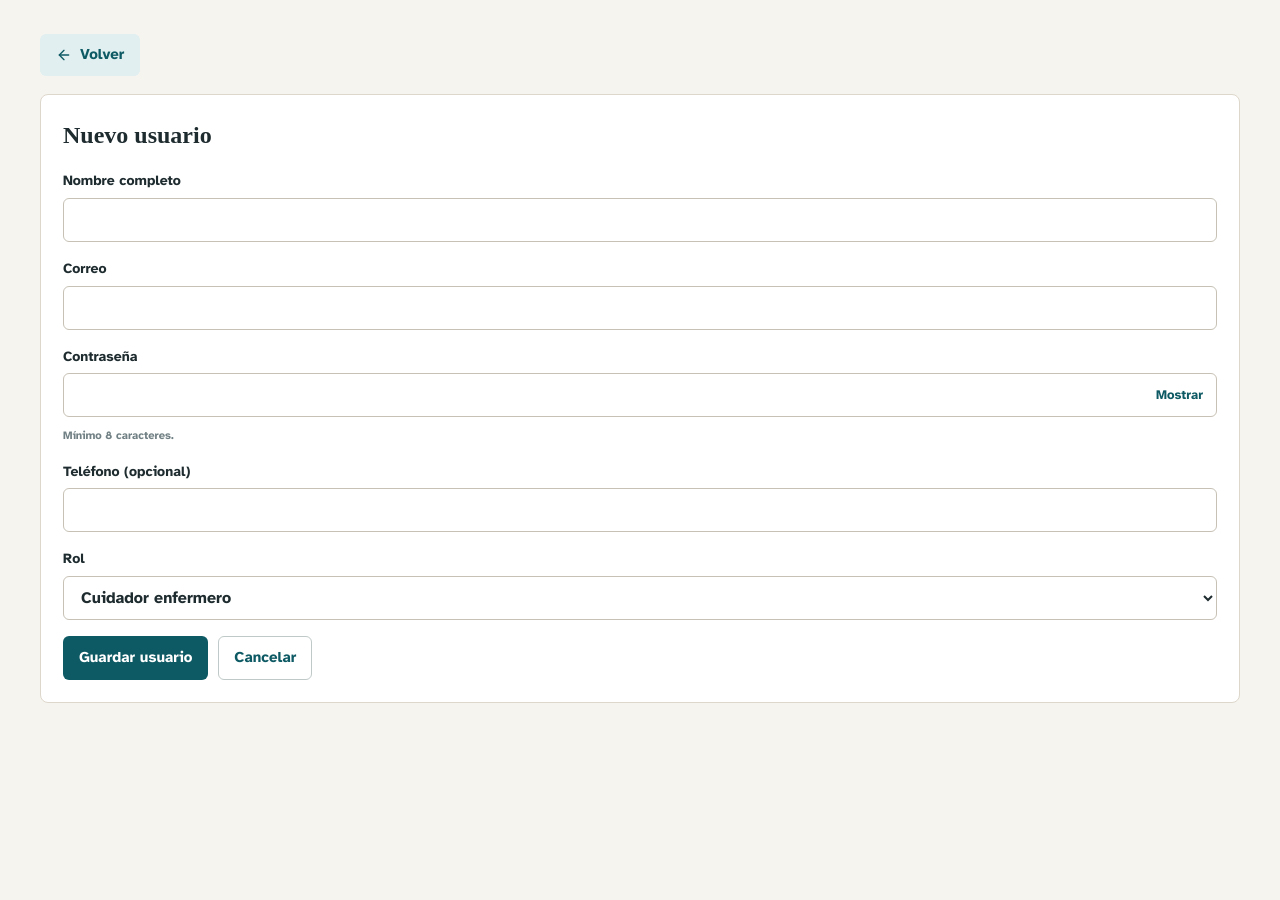
Scenario: FormularioUsuario › rechaza una contrasena menor a 8 caracteres
The width and height of the screenshot is (1280, 900).
In the field labelled "Nombre completo": [640, 220] box x1=63 y1=198 x2=1217 y2=242, type "Ana Gomez"
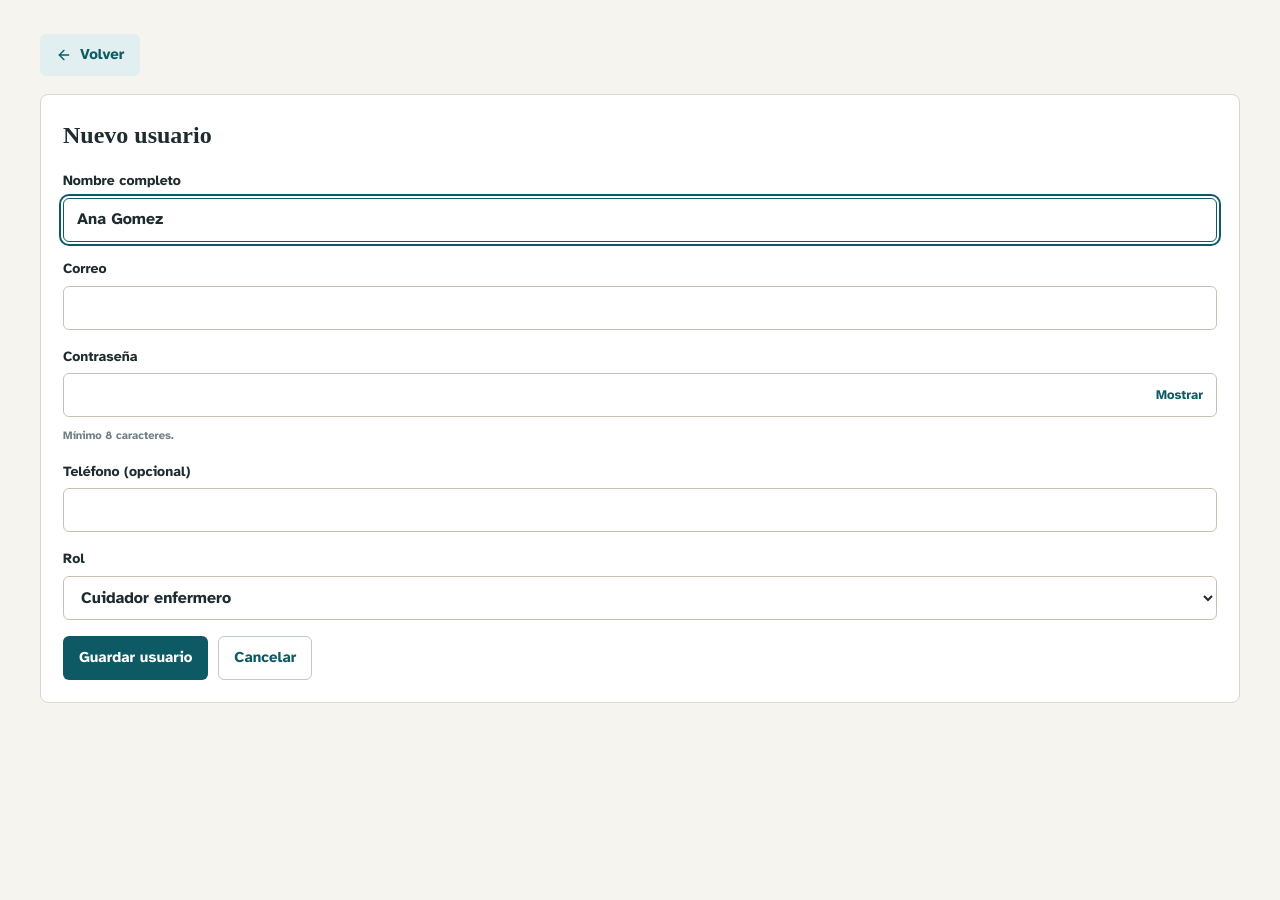
In the field labelled "Correo": [640, 308] box x1=63 y1=286 x2=1217 y2=330, type "ana@ejemplo.com"
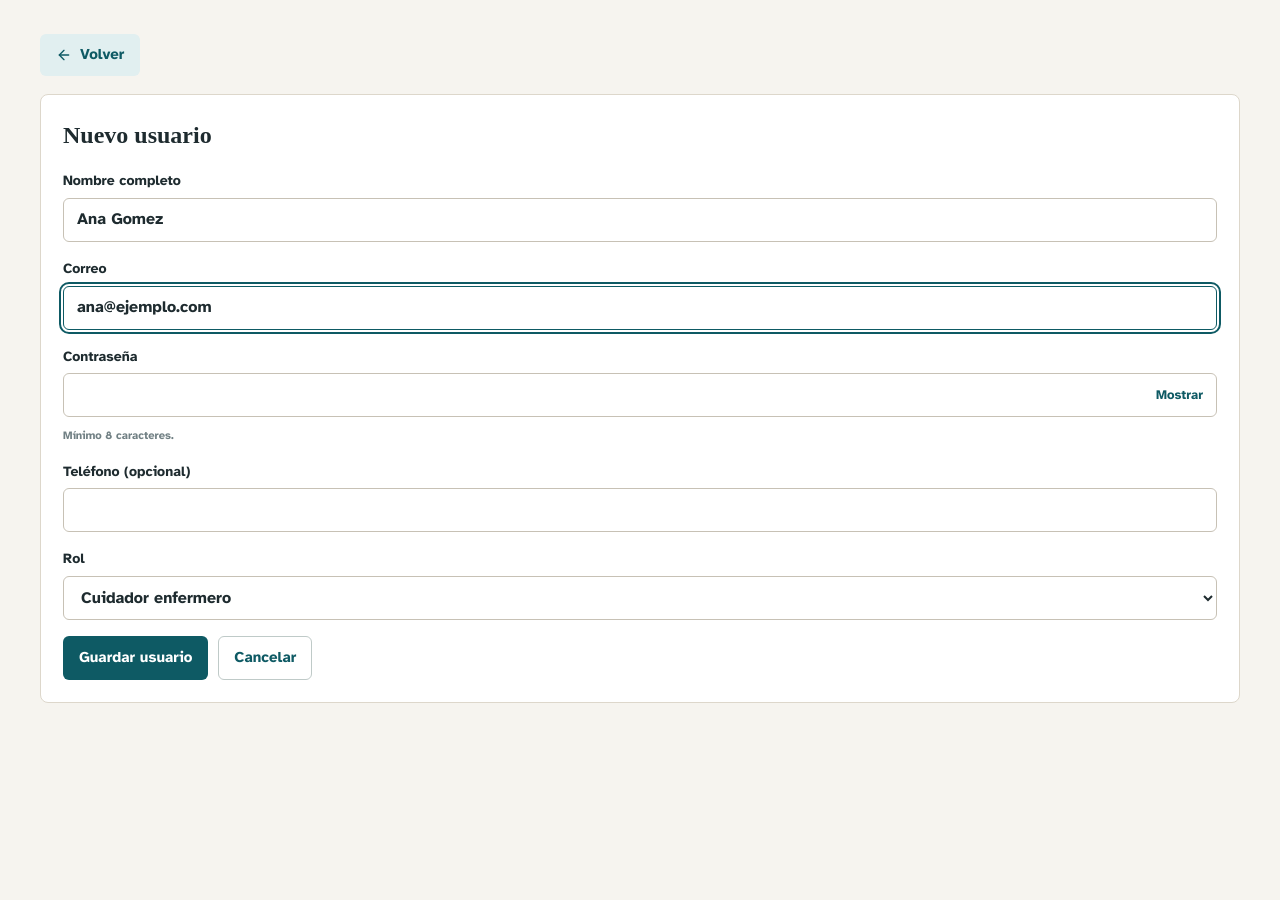
In the password field labelled "Contraseña Mostrar Mínimo 8 caracteres.": [640, 395] box x1=63 y1=373 x2=1217 y2=417, type "123"
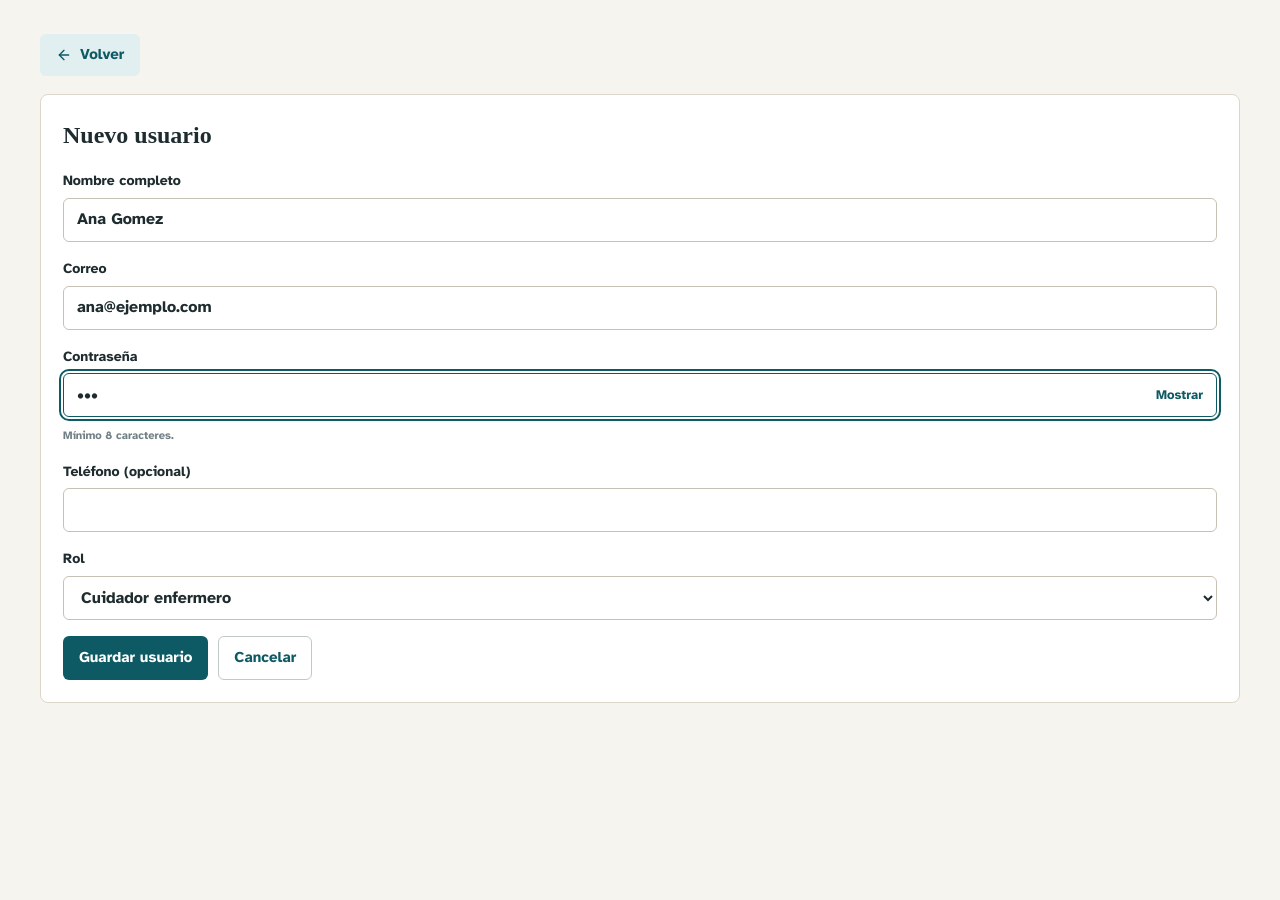
Click the button "Guardar usuario": [136, 658] box x1=63 y1=636 x2=208 y2=680
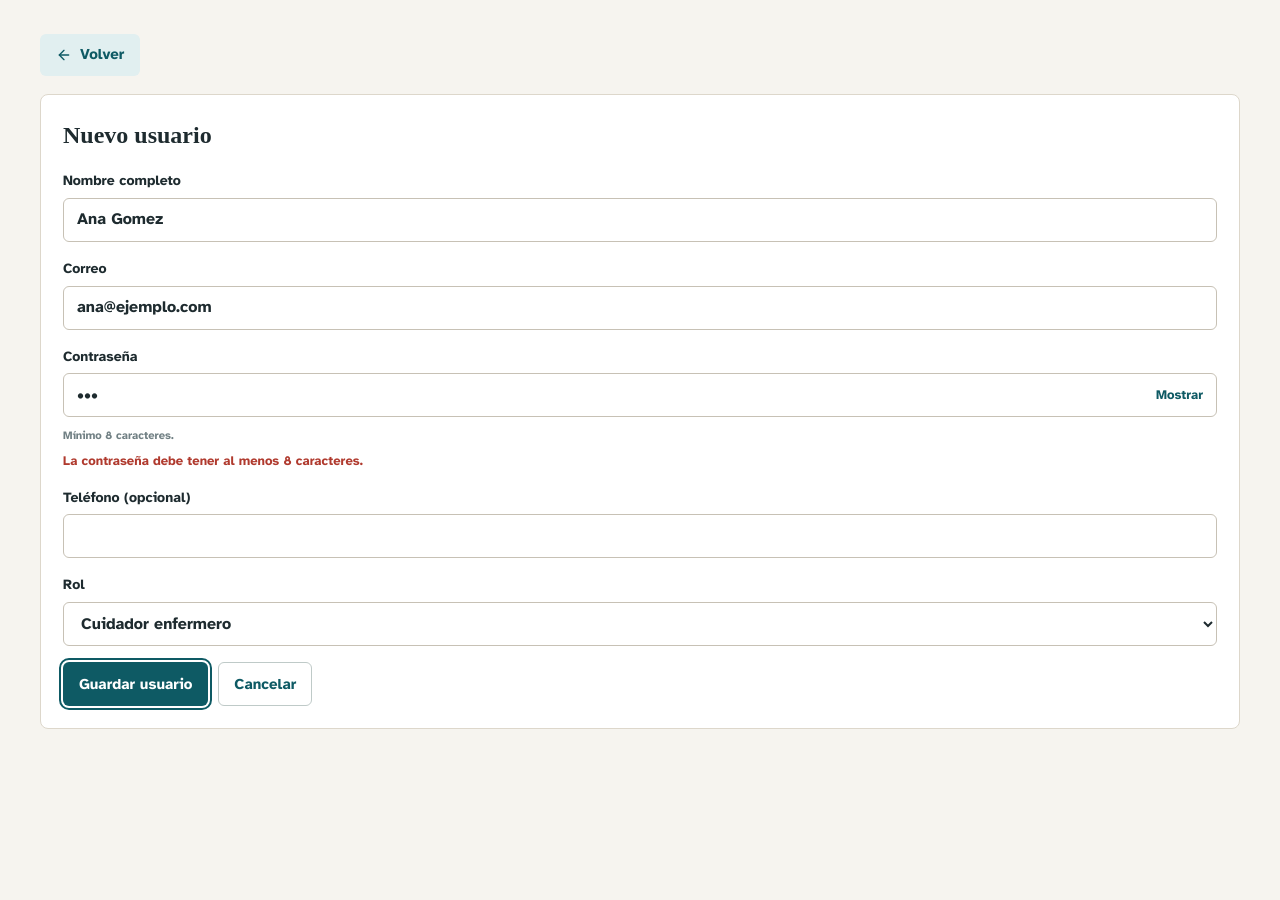
Expected: the text "La contraseña debe tener al menos 8 caracteres." is shown, x1=63 y1=453 x2=363 y2=469
